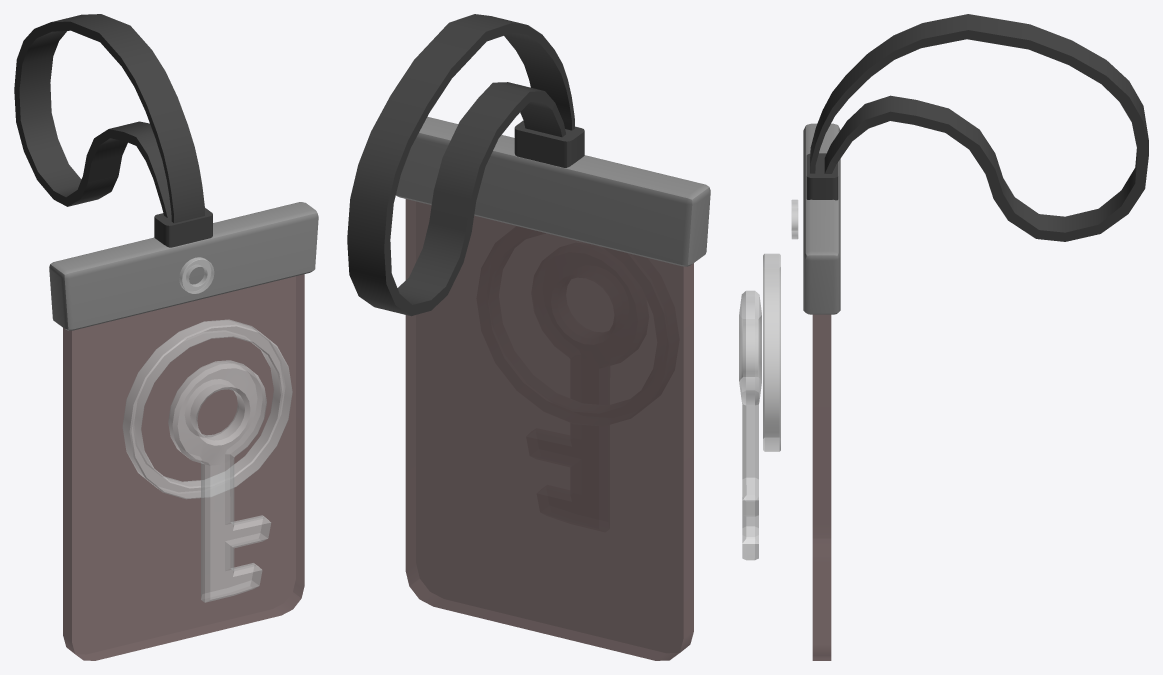
Rendered from Llave_coloreada.fbx.
3 renders of one model, left to right at view 1: azimuth 30°, elevation 25°; view 2: azimuth 150°, elevation 25°; view 3: azimuth 270°, elevation 25°, orthographic. The views are drawn at different scales.
Parts seen in each view (by area): view 1: Targeta, Cinta, polySurface2, LLave, Circulo, polySurface3, pasted__Circulo; view 2: Targeta, Cinta, polySurface2, polySurface3; view 3: Cinta, Targeta, polySurface2, LLave, Circulo, polySurface3.
Part boxes in pixels (x1,y1,x2,y2): Targeta: (63,274,304,660); Cinta: (14,14,204,223); polySurface2: (49,202,318,330); LLave: (168,360,271,602); Circulo: (122,319,292,499); polySurface3: (154,208,212,247); pasted__Circulo: (179,257,214,293); Targeta: (405,199,693,660); Cinta: (347,14,574,316); polySurface2: (396,116,710,266); polySurface3: (514,120,584,167); Cinta: (810,14,1148,241); Targeta: (812,314,831,660); polySurface2: (803,123,840,314); LLave: (739,290,761,560); Circulo: (763,253,780,451); polySurface3: (806,153,838,200).
Size of the model in its own units: 2.35 by 4.83 by 3.05.
